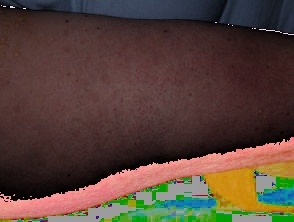SJS-TEN: (0, 1, 294, 222)
